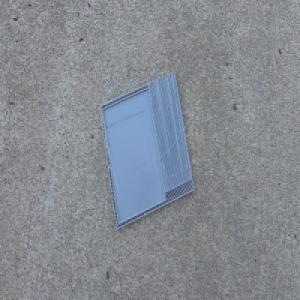PlasticPart: (98, 70, 195, 231)
